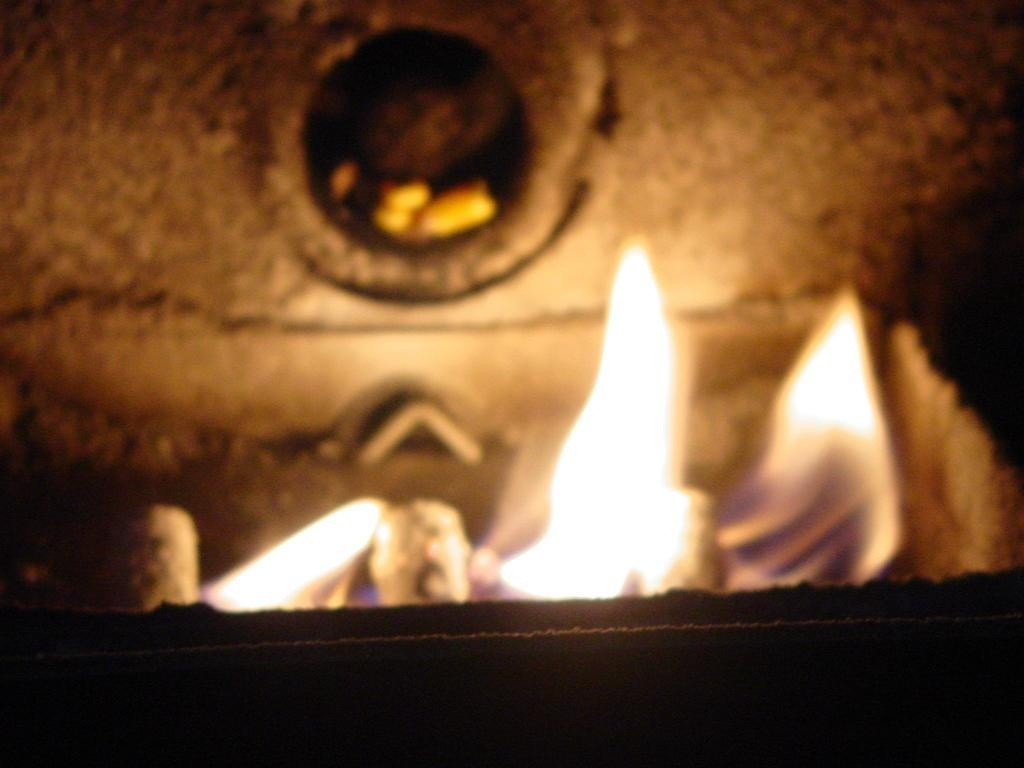fire: (146, 247, 911, 610)
